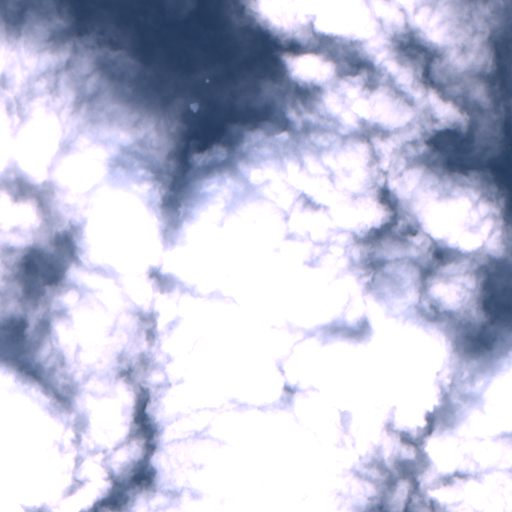Iceberg: (190, 103, 198, 112), (206, 79, 208, 82)
